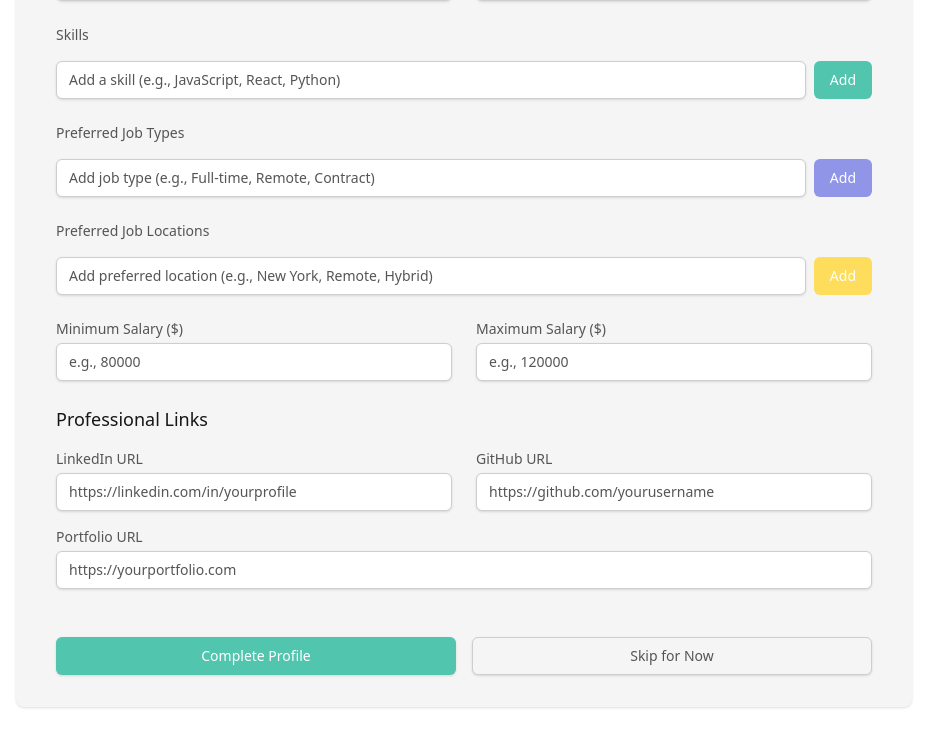
ProfileSetup Component › should handle form submission error
(page scrolled)
Click the button "Complete Profile" at (256, 656), box 56,637 -> 456,675
(page scrolled)
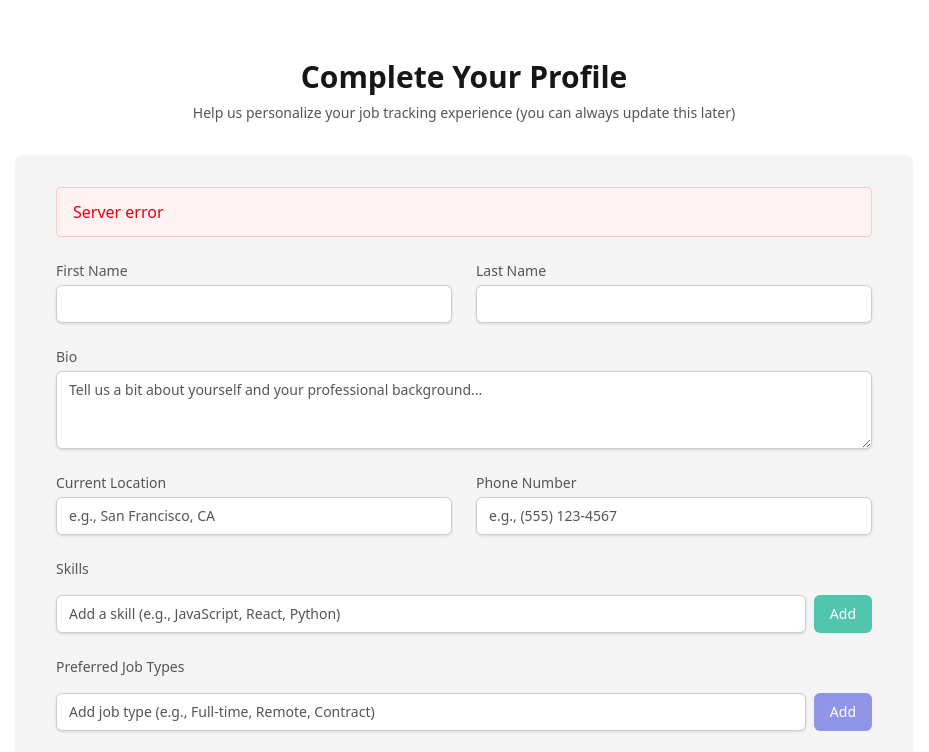
Check: the text "Server error" is shown, box 56,187 -> 872,237
